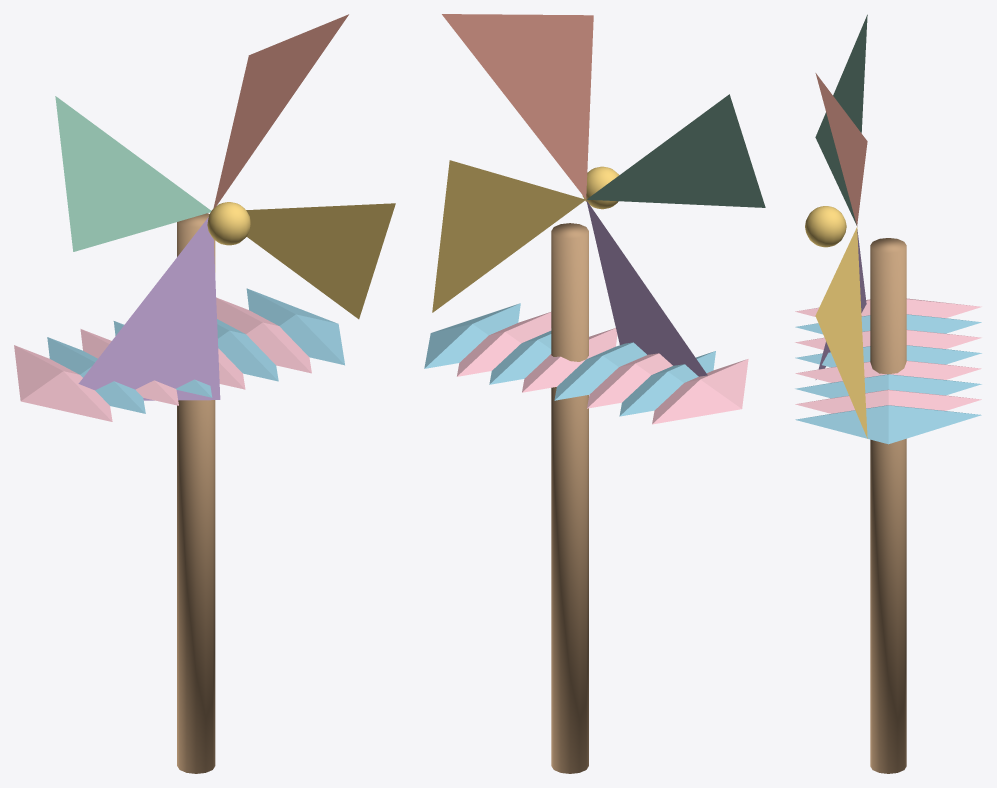
File: play-pinwheel.glb
3 renders of one model, left to right at view 1: azimuth 30°, elevation 25°; view 2: azimuth 150°, elevation 25°; view 3: azimuth 270°, elevation 25°, orthographic. The views are drawn at different scales.
Visible parts, largest first — view 1: Wheel surfaces, Pinwheel post, Silk streamer, Silk streamer.007, Silk streamer.006, Silk streamer.001, Silk streamer.005, Silk streamer.002, Silk streamer.004; view 2: Wheel surfaces, Pinwheel post, Silk streamer, Silk streamer.007, Silk streamer.006, Silk streamer.003, Silk streamer.001, Silk streamer.002, Silk streamer.004, Silk streamer.005; view 3: Pinwheel post, Wheel surfaces, Silk streamer.007, Silk streamer.006, Silk streamer.005, Silk streamer.004, Silk streamer.003, Silk streamer.002, Silk streamer.001, Silk streamer.
Part boxes in pixels (x1=…): Wheel surfaces: x1=55, y1=14, x2=395, y2=400; Pinwheel post: x1=177, y1=213, x2=215, y2=773; Silk streamer: x1=14, y1=345, x2=112, y2=421; Silk streamer.007: x1=246, y1=288, x2=344, y2=365; Silk streamer.006: x1=216, y1=297, x2=311, y2=373; Silk streamer.001: x1=47, y1=337, x2=145, y2=413; Silk streamer.005: x1=217, y1=319, x2=278, y2=381; Silk streamer.002: x1=80, y1=329, x2=178, y2=405; Silk streamer.004: x1=218, y1=348, x2=245, y2=389; Wheel surfaces: x1=432, y1=14, x2=765, y2=376; Pinwheel post: x1=551, y1=223, x2=588, y2=773; Silk streamer: x1=652, y1=359, x2=748, y2=424; Silk streamer.007: x1=424, y1=303, x2=520, y2=368; Silk streamer.006: x1=457, y1=312, x2=551, y2=376; Silk streamer.003: x1=554, y1=342, x2=646, y2=400; Silk streamer.001: x1=619, y1=351, x2=715, y2=416; Silk streamer.002: x1=587, y1=353, x2=672, y2=408; Silk streamer.004: x1=522, y1=328, x2=617, y2=392; Silk streamer.005: x1=489, y1=331, x2=551, y2=384; Pinwheel post: x1=870, y1=238, x2=906, y2=773; Wheel surfaces: x1=805, y1=14, x2=867, y2=438; Silk streamer.007: x1=795, y1=405, x2=981, y2=444; Silk streamer.006: x1=795, y1=389, x2=981, y2=413; Silk streamer.005: x1=795, y1=374, x2=981, y2=398; Silk streamer.004: x1=795, y1=360, x2=981, y2=382; Silk streamer.003: x1=795, y1=345, x2=981, y2=367; Silk streamer.002: x1=795, y1=329, x2=981, y2=349; Silk streamer.001: x1=795, y1=314, x2=981, y2=334; Silk streamer: x1=795, y1=298, x2=981, y2=318.
Bounding box in the file's own units: 0.71 × 1.48 × 0.36.
